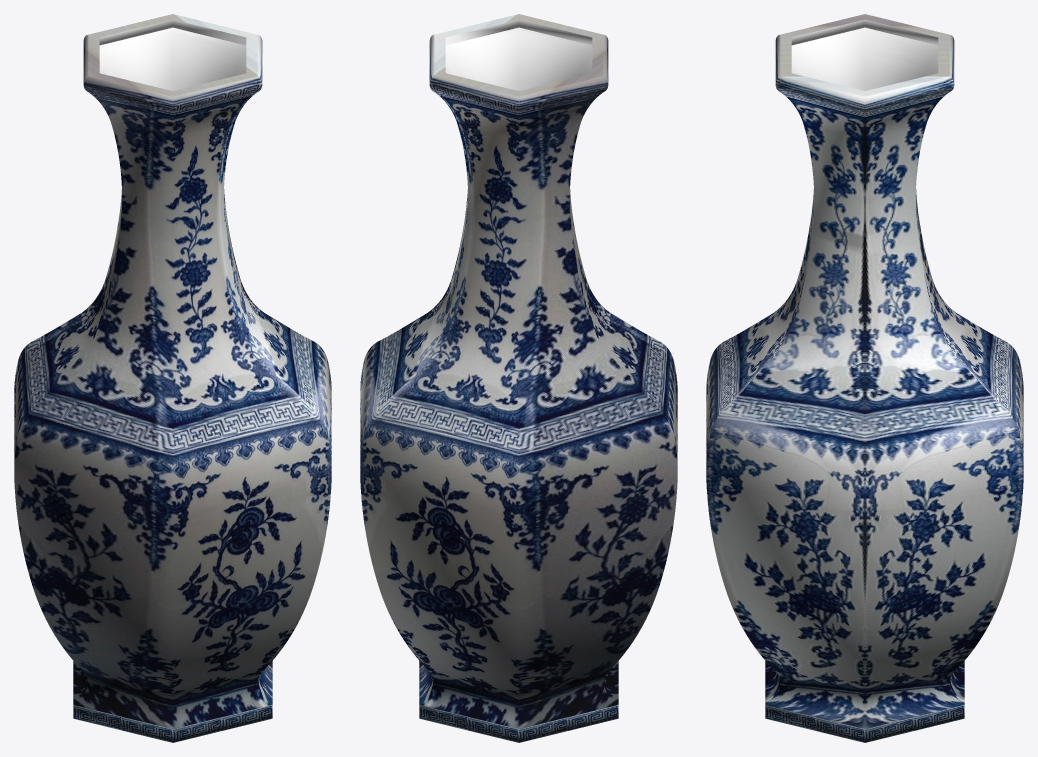
3 renders of one model, left to right at view 1: azimuth 30°, elevation 25°; view 2: azimuth 150°, elevation 25°; view 3: azimuth 270°, elevation 25°, orthographic.
Visible parts, largest first — view 1: root; view 2: root; view 3: root.
Part boxes in pixels (x1,y1,x2,y2): root: (14,14,331,742); root: (360,14,677,742); root: (706,14,1023,742).
Bounding box in the file's own units: 0.287 × 0.5517 × 0.2485.
2 materials, 1 textured.
